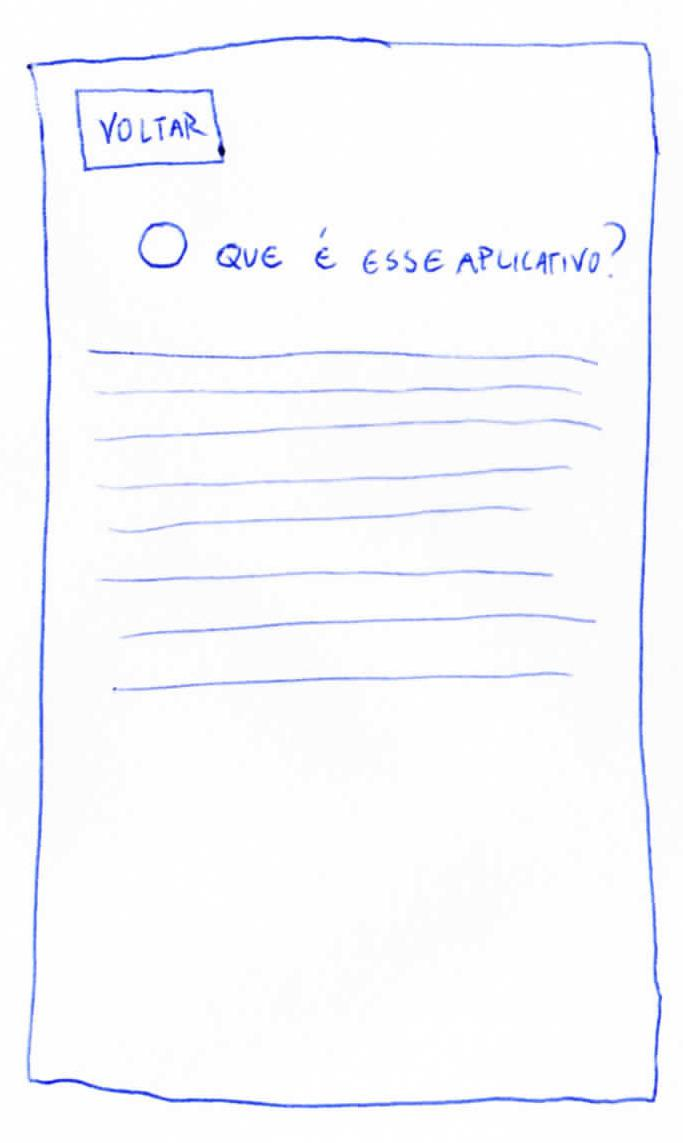Button: (74, 85, 227, 173)
Label: (87, 346, 603, 690), (138, 221, 631, 278)
Screen: (26, 36, 662, 1107)
